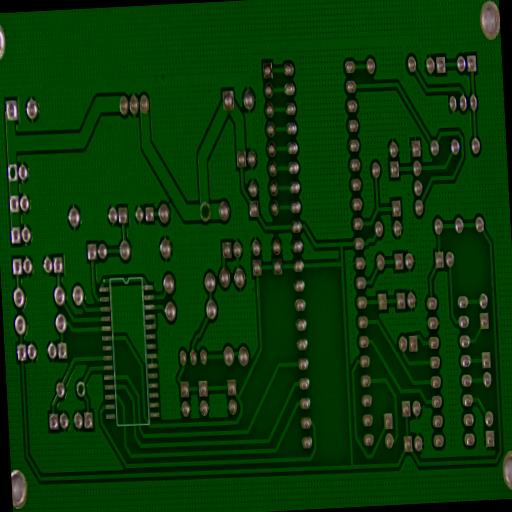missing_hole: (6, 160, 20, 185), (198, 200, 212, 222), (75, 378, 86, 399)
